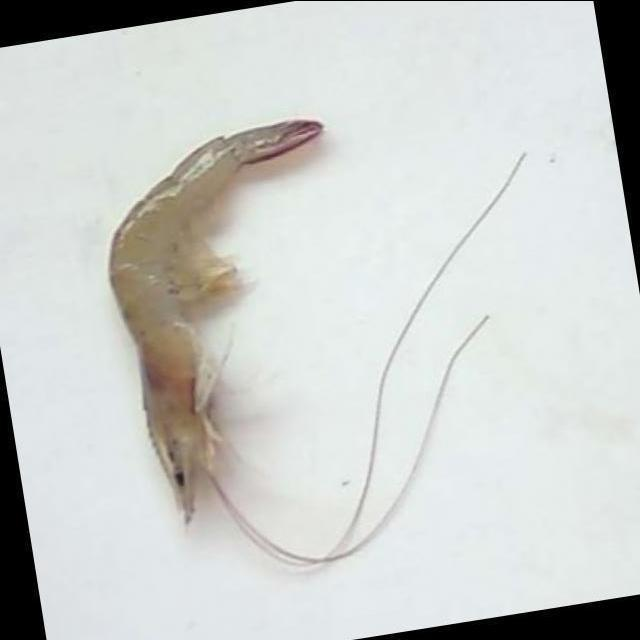shrimp: (108, 118, 323, 523)
